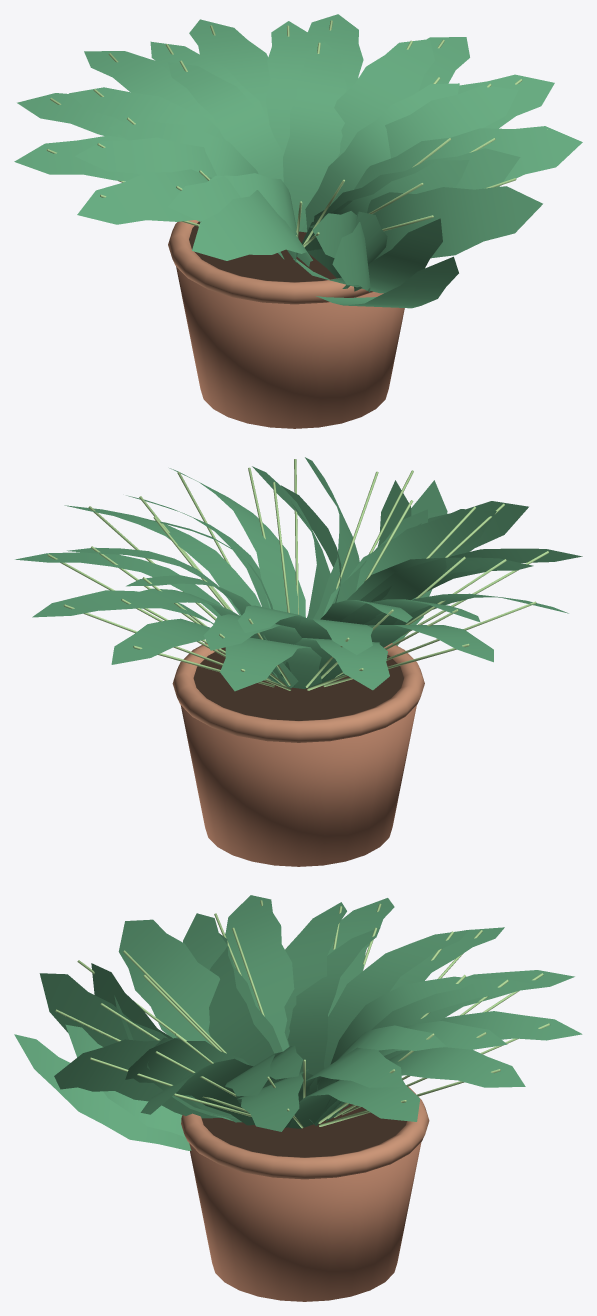
The model's file is aloe_vera.glb.
The picture shows the model from 3 angles, top to bottom: view 1: azimuth 30°, elevation 25°; view 2: azimuth 150°, elevation 25°; view 3: azimuth 270°, elevation 25°; orthographic projection.
Visible parts, largest first — view 1: pot_static, leaf_g804_aloe_2_9, leaf_g076_aloe_0_1, leaf_g830_aloe_2_10, leaf_g102_aloe_0_2, leaf_g310_aloe_1_0, leaf_g726_aloe_2_6, pot_rim_static, leaf_g544_aloe_1_9, leaf_g050_aloe_0_0, leaf_g700_aloe_2_5, leaf_g414_aloe_1_4 (+21 smaller); view 2: pot_static, pot_rim_static, soil_static, leaf_g466_aloe_1_6, leaf_g622_aloe_2_2, leaf_g830_aloe_2_10, leaf_g596_aloe_2_1, leaf_g648_aloe_2_3, leaf_g440_aloe_1_5, leaf_g856_aloe_2_11, leaf_g882_aloe_2_12, leaf_g674_aloe_2_4 (+19 smaller); view 3: pot_static, leaf_g726_aloe_2_6, pot_rim_static, soil_static, leaf_g700_aloe_2_5, leaf_g388_aloe_1_3, leaf_g804_aloe_2_9, leaf_g128_aloe_0_3, leaf_g778_aloe_2_8, leaf_g752_aloe_2_7, leaf_g154_aloe_0_4, leaf_g570_aloe_2_0 (+19 smaller).
Boxes of the visible parts, x1,y1,x2,y2 form: pot_static: (176,266,404,428); leaf_g804_aloe_2_9: (316,186,542,259); leaf_g076_aloe_0_1: (283,42,346,231); leaf_g830_aloe_2_10: (354,126,582,189); leaf_g102_aloe_0_2: (167,62,283,182); leaf_g310_aloe_1_0: (301,39,435,232); leaf_g726_aloe_2_6: (192,190,312,266); pot_rim_static: (168,220,373,304); leaf_g544_aloe_1_9: (385,85,518,158); leaf_g050_aloe_0_0: (305,83,459,227); leaf_g700_aloe_2_5: (77,169,284,259); leaf_g414_aloe_1_4: (75,137,216,177); pot_static: (180,705,416,866); pot_rim_static: (172,643,424,742); soil_static: (193,647,403,720); leaf_g466_aloe_1_6: (322,509,496,616); leaf_g622_aloe_2_2: (220,637,321,691); leaf_g830_aloe_2_10: (169,468,305,617); leaf_g596_aloe_2_1: (111,618,298,688); leaf_g648_aloe_2_3: (280,638,389,690); leaf_g440_aloe_1_5: (360,557,533,602); leaf_g856_aloe_2_11: (64,505,261,616); leaf_g882_aloe_2_12: (15,552,222,616); leaf_g674_aloe_2_4: (344,625,493,674); pot_static: (189,1142,421,1301); leaf_g726_aloe_2_6: (118,919,219,1045); pot_rim_static: (181,1087,429,1179); soil_static: (201,1103,406,1157); leaf_g700_aloe_2_5: (225,895,294,1051); leaf_g388_aloe_1_3: (324,929,469,1079); leaf_g804_aloe_2_9: (54,1039,221,1118); leaf_g128_aloe_0_3: (287,927,380,1075); leaf_g778_aloe_2_8: (14,1034,191,1150); leaf_g752_aloe_2_7: (39,973,182,1114); leaf_g154_aloe_0_4: (208,933,274,1066); leaf_g570_aloe_2_0: (314,1047,525,1125).
Bounding box in the file's own units: 0.8776 × 0.4704 × 0.8897.
